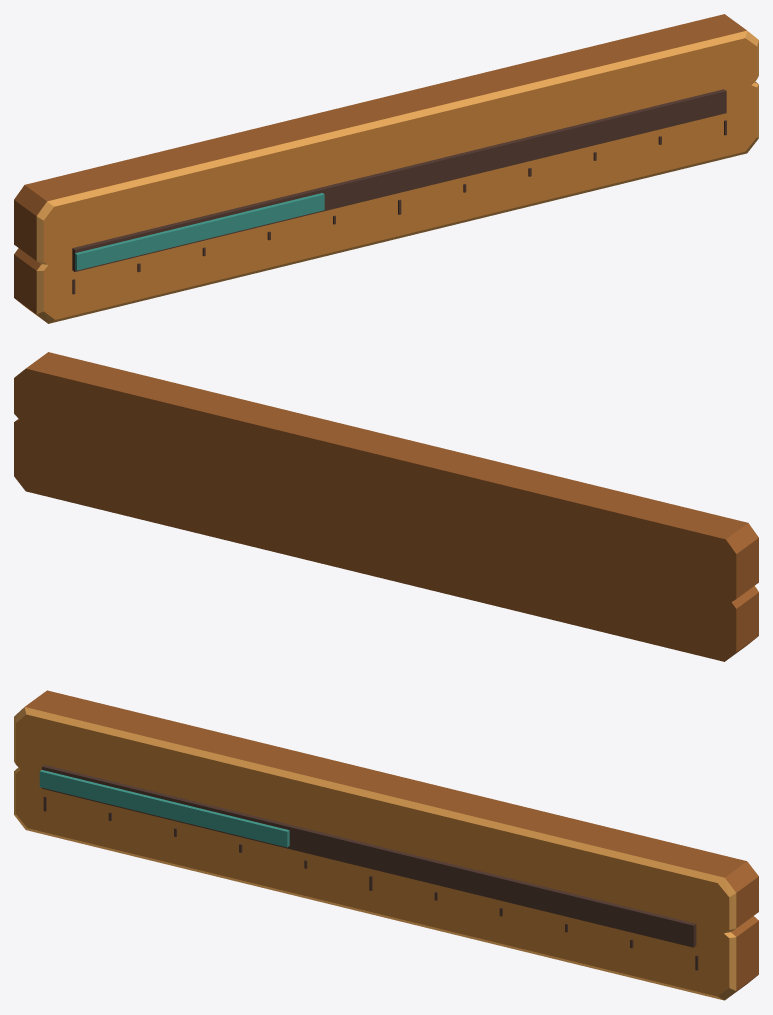
File: Progress_H.fbx
3 renders of one model, top to bottom at view 1: azimuth 30°, elevation 25°; view 2: azimuth 150°, elevation 25°; view 3: azimuth 330°, elevation 25°, orthographic.
Visible parts, largest first — view 1: Stone, Rail, Fill; view 2: Stone; view 3: Stone, Rail, Fill.
Boxes of the visible parts, x1,y1,x2,y2 form: Stone: (14, 14, 758, 323); Rail: (72, 89, 726, 271); Fill: (75, 193, 324, 270); Stone: (14, 352, 758, 661); Stone: (14, 690, 758, 1000); Rail: (42, 764, 696, 947); Fill: (39, 770, 289, 847).
Size of the model in its own units: 0.48 by 0.078 by 0.0345.
